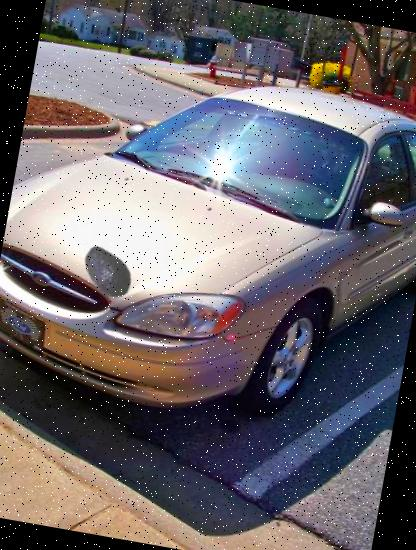Avocado: (75, 238, 140, 304)
